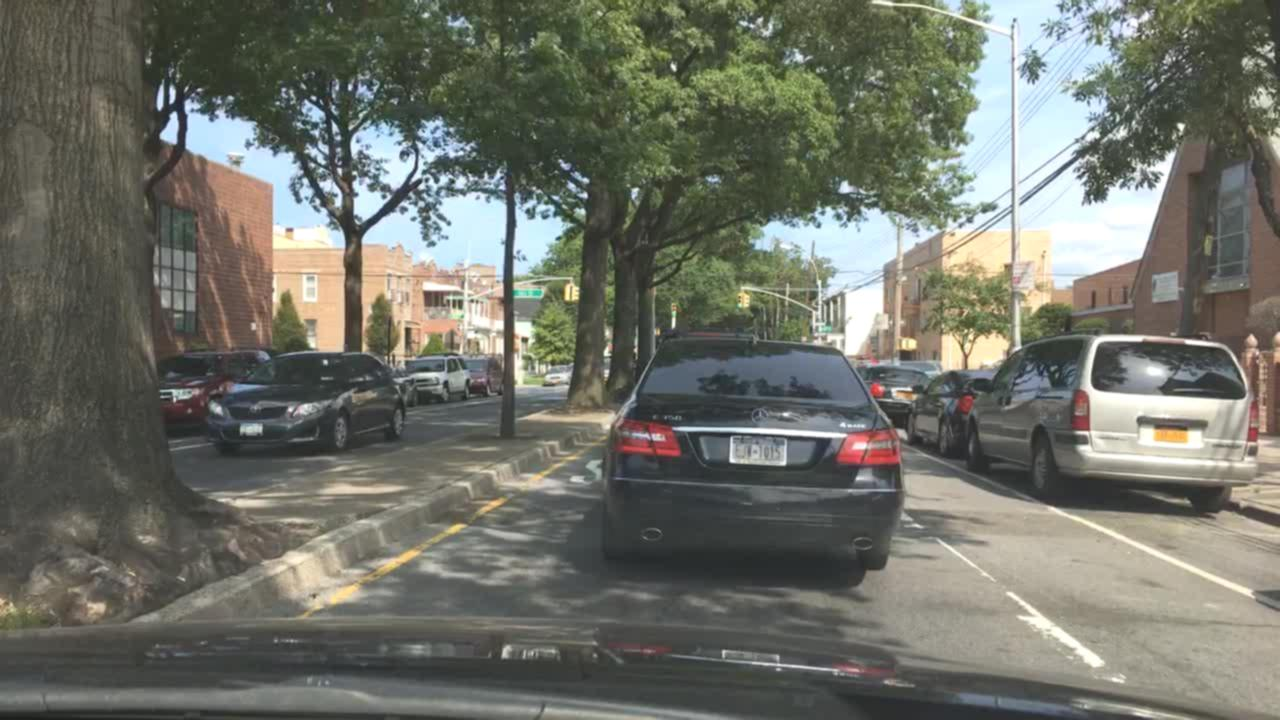Mercedes: (740, 399, 778, 434)
